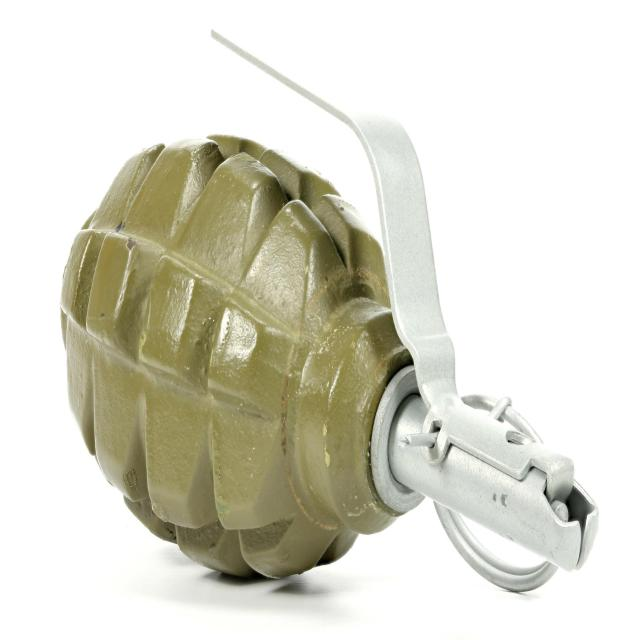grenade: (62, 30, 599, 601)
